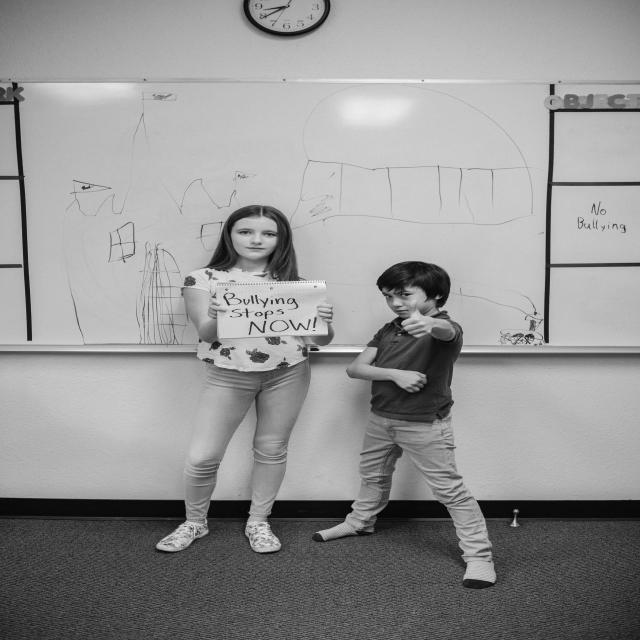stand: (322, 242, 476, 592), (190, 184, 312, 599)
